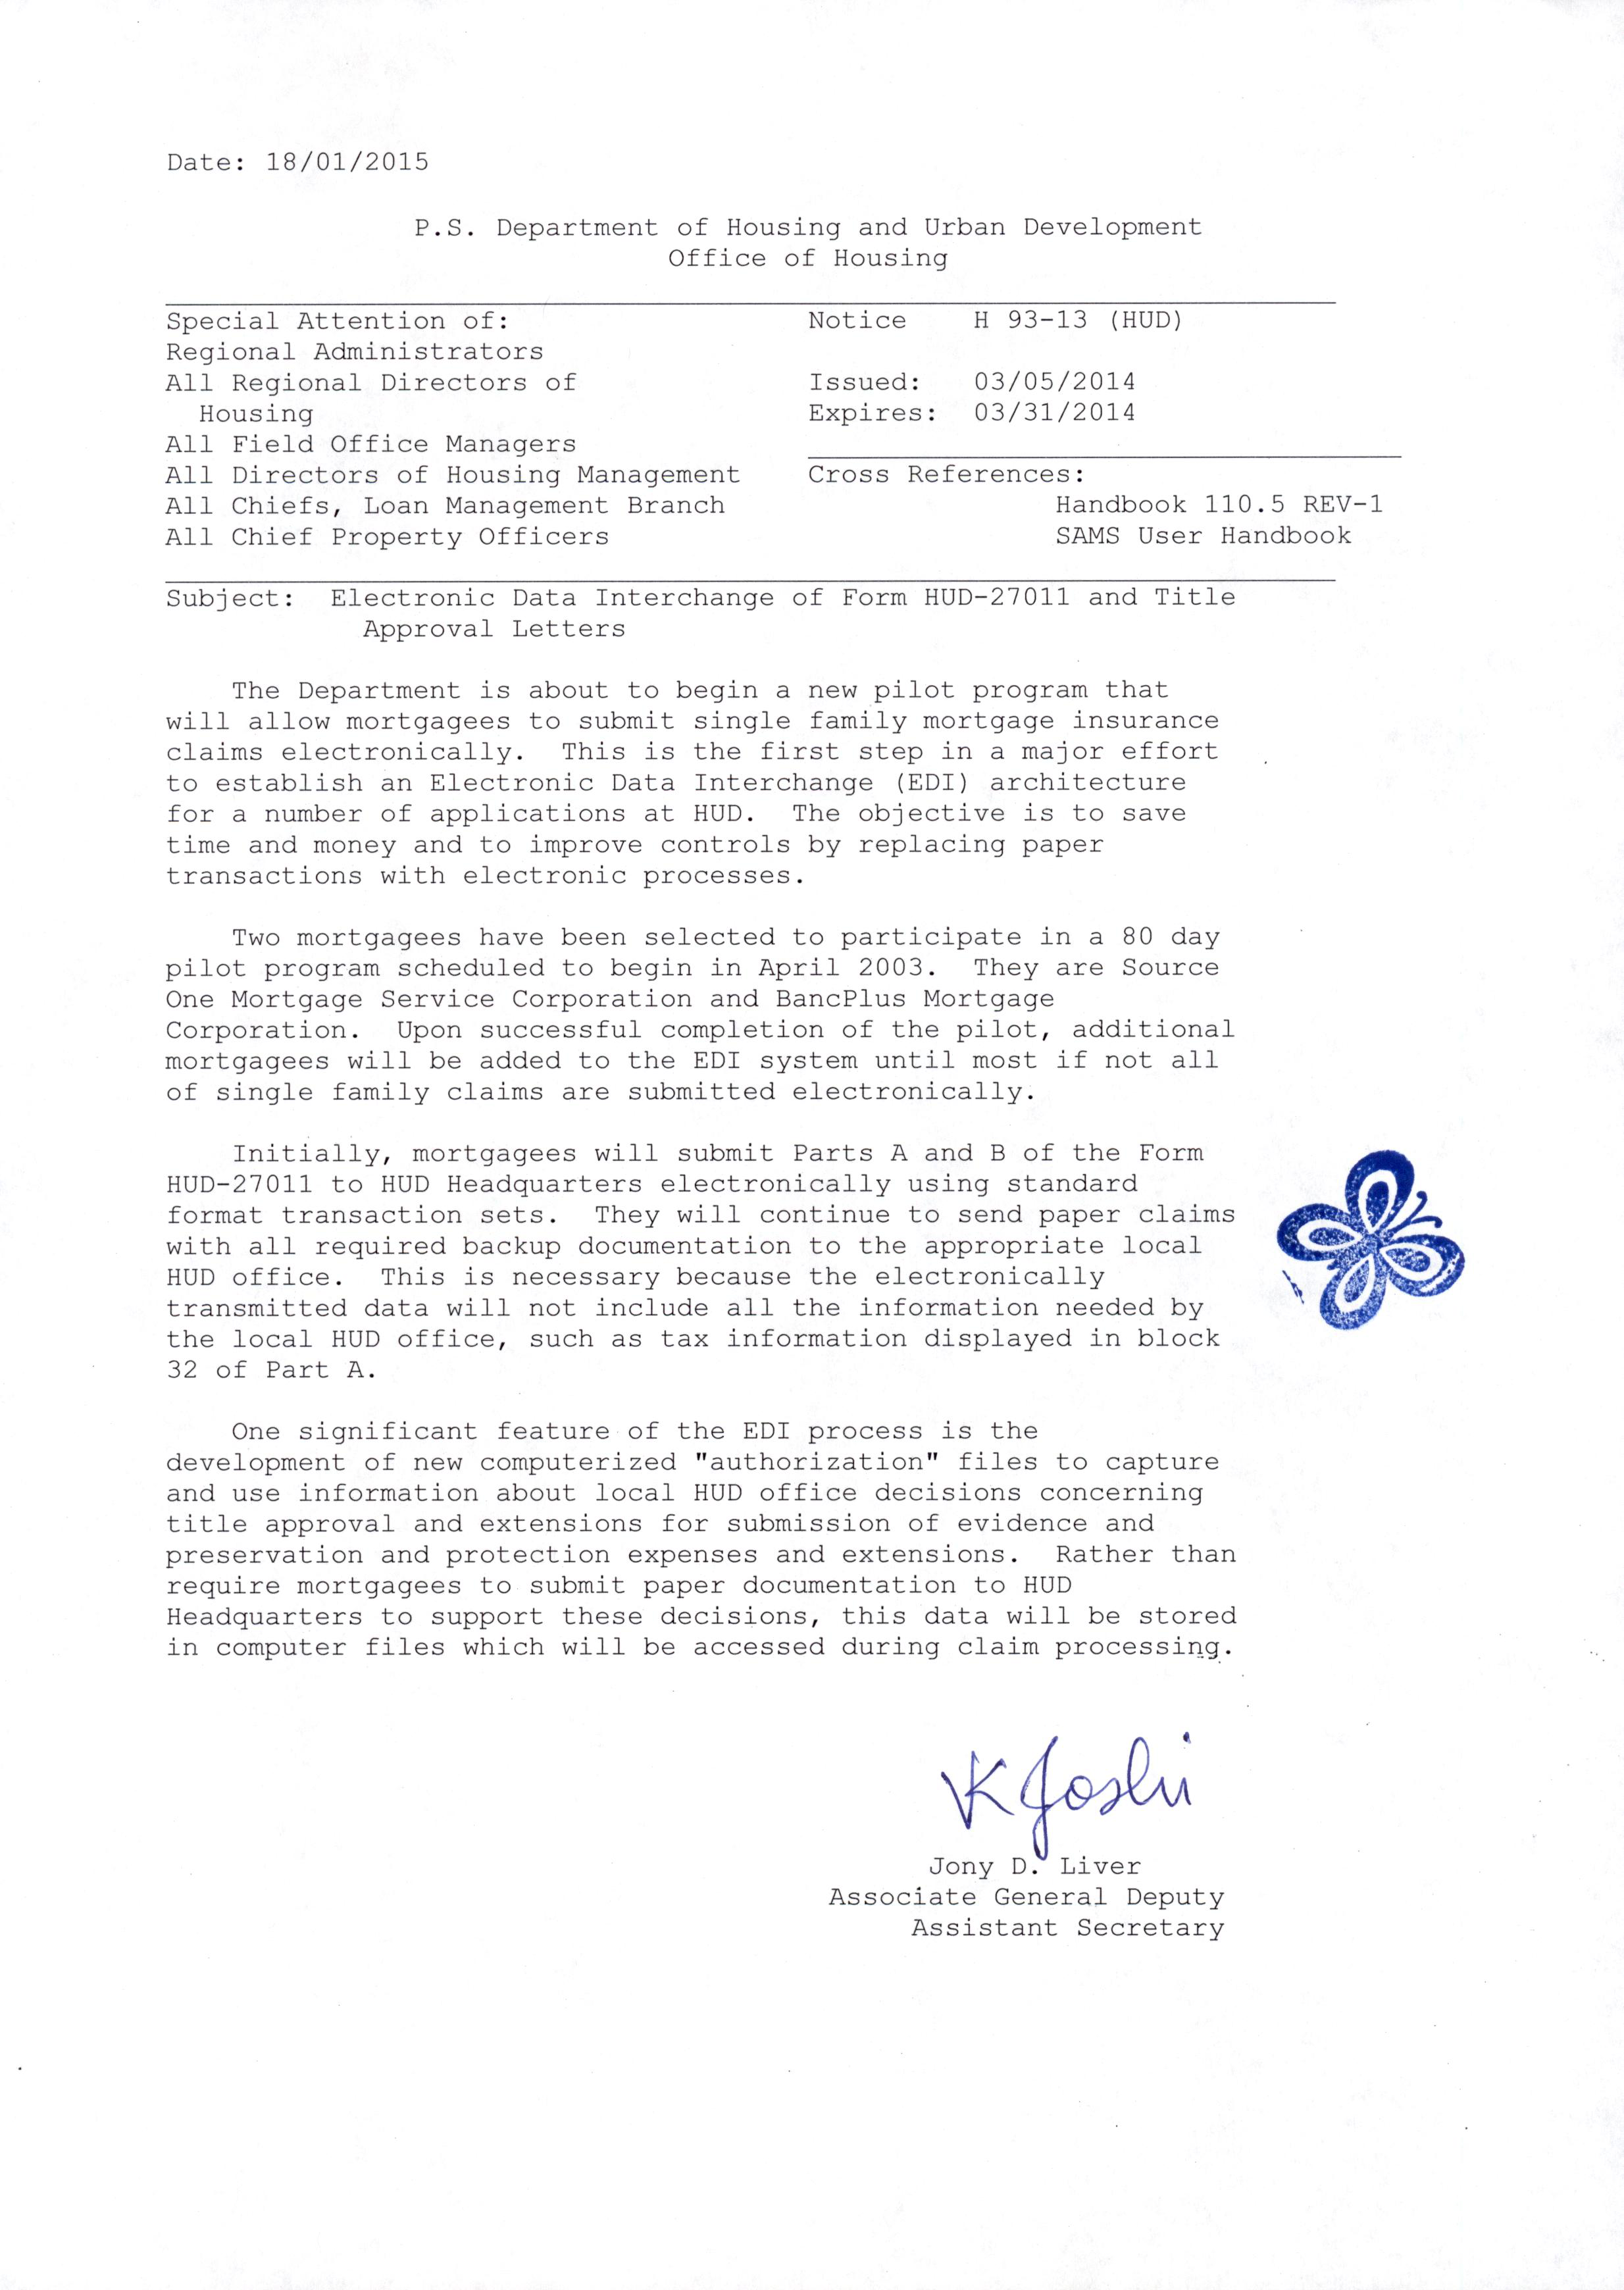Signature: (933, 1724, 1200, 1863)
